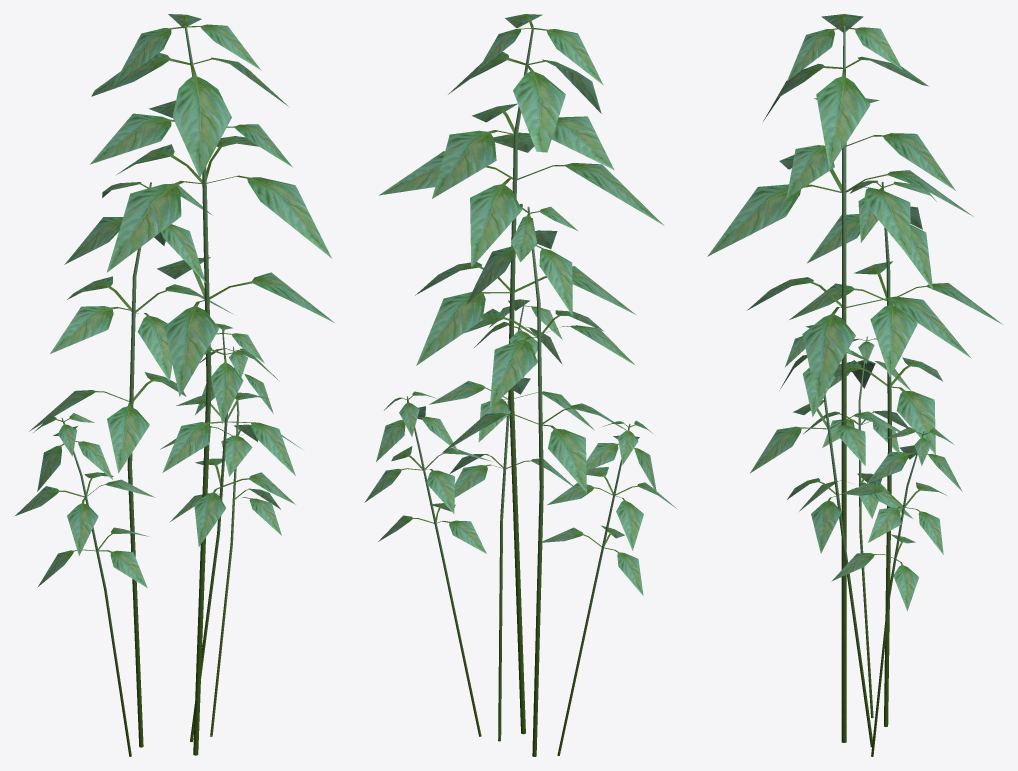
File: Basil1.fbx
The picture shows the model from 3 angles, left to right: view 1: azimuth 30°, elevation 25°; view 2: azimuth 150°, elevation 25°; view 3: azimuth 270°, elevation 25°; orthographic projection. The views are drawn at different scales.
Parts seen in each view (by area): view 1: Basil_1; view 2: Basil_1; view 3: Basil_1.
Part boxes in pixels (x1,y1,x2,y2): Basil_1: [15, 14, 334, 756]; Basil_1: [364, 14, 677, 756]; Basil_1: [707, 14, 1002, 756].
Size of the model in its own units: 31.52 by 80.47 by 30.39.
